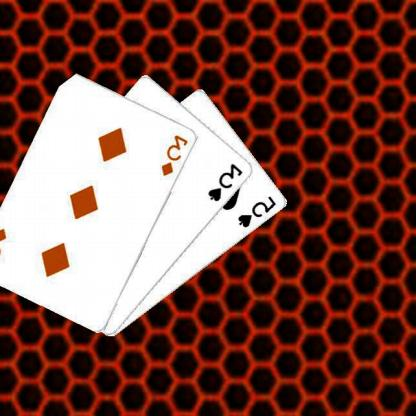3D: (160, 132, 192, 178), (0, 225, 11, 271)
3S: (207, 161, 246, 203)
5S: (237, 193, 280, 229)
